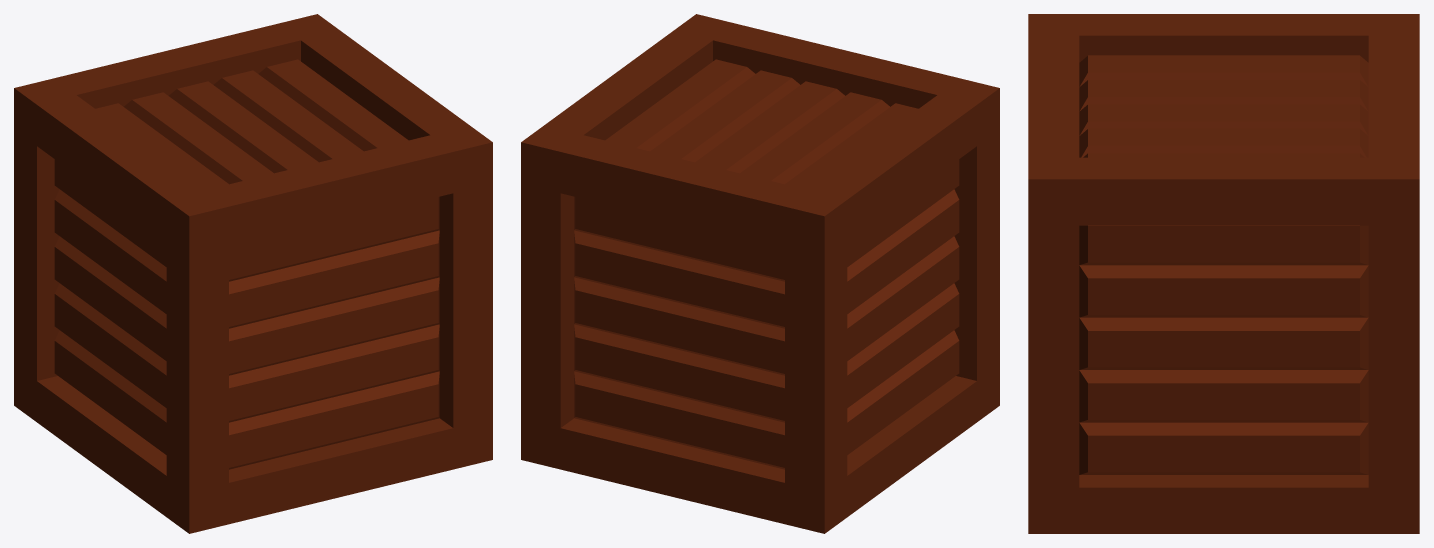
File: Prop_WoodenBox.obj
3 renders of one model, left to right at view 1: azimuth 30°, elevation 25°; view 2: azimuth 150°, elevation 25°; view 3: azimuth 270°, elevation 25°, orthographic. The views are drawn at different scales.
Visible parts, largest first — view 1: EXPORT_Prop_WoodenBox; view 2: EXPORT_Prop_WoodenBox; view 3: EXPORT_Prop_WoodenBox.
Boxes of the visible parts, x1,y1,x2,y2 form: EXPORT_Prop_WoodenBox: [14, 14, 492, 533]; EXPORT_Prop_WoodenBox: [521, 14, 999, 533]; EXPORT_Prop_WoodenBox: [1028, 14, 1419, 533].
Bounding box in the file's own units: 0.5456 × 0.5456 × 0.5456.
